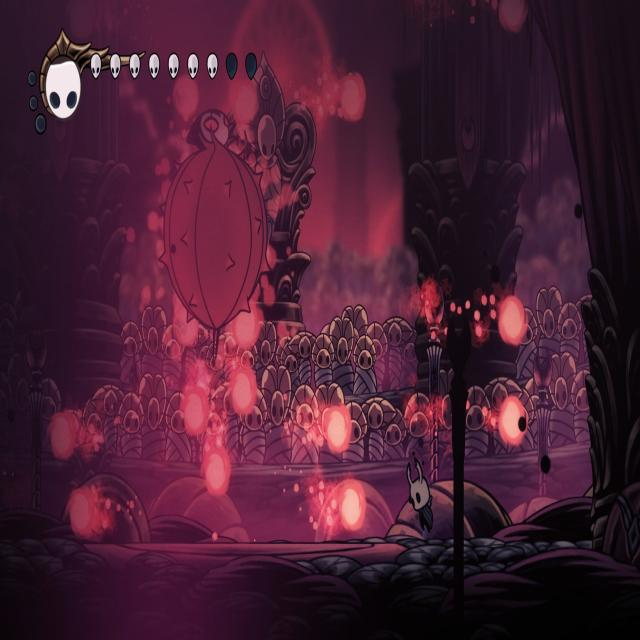Player: (403, 454, 439, 540)
Pufferfish: (156, 104, 276, 362)
Tiny Fireballs: (172, 292, 199, 347), (499, 396, 528, 447), (201, 447, 231, 496), (232, 300, 262, 349), (49, 411, 78, 460), (322, 404, 351, 453), (182, 387, 209, 436), (340, 73, 366, 122), (499, 296, 525, 344), (172, 76, 199, 122), (231, 369, 256, 416), (234, 82, 259, 124), (499, 0, 528, 33), (341, 489, 361, 524)
